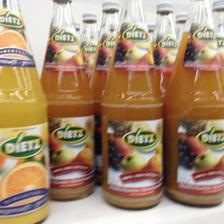Saft: (100, 0, 163, 208), (162, 0, 222, 206), (38, 1, 94, 200), (0, 0, 48, 223)
